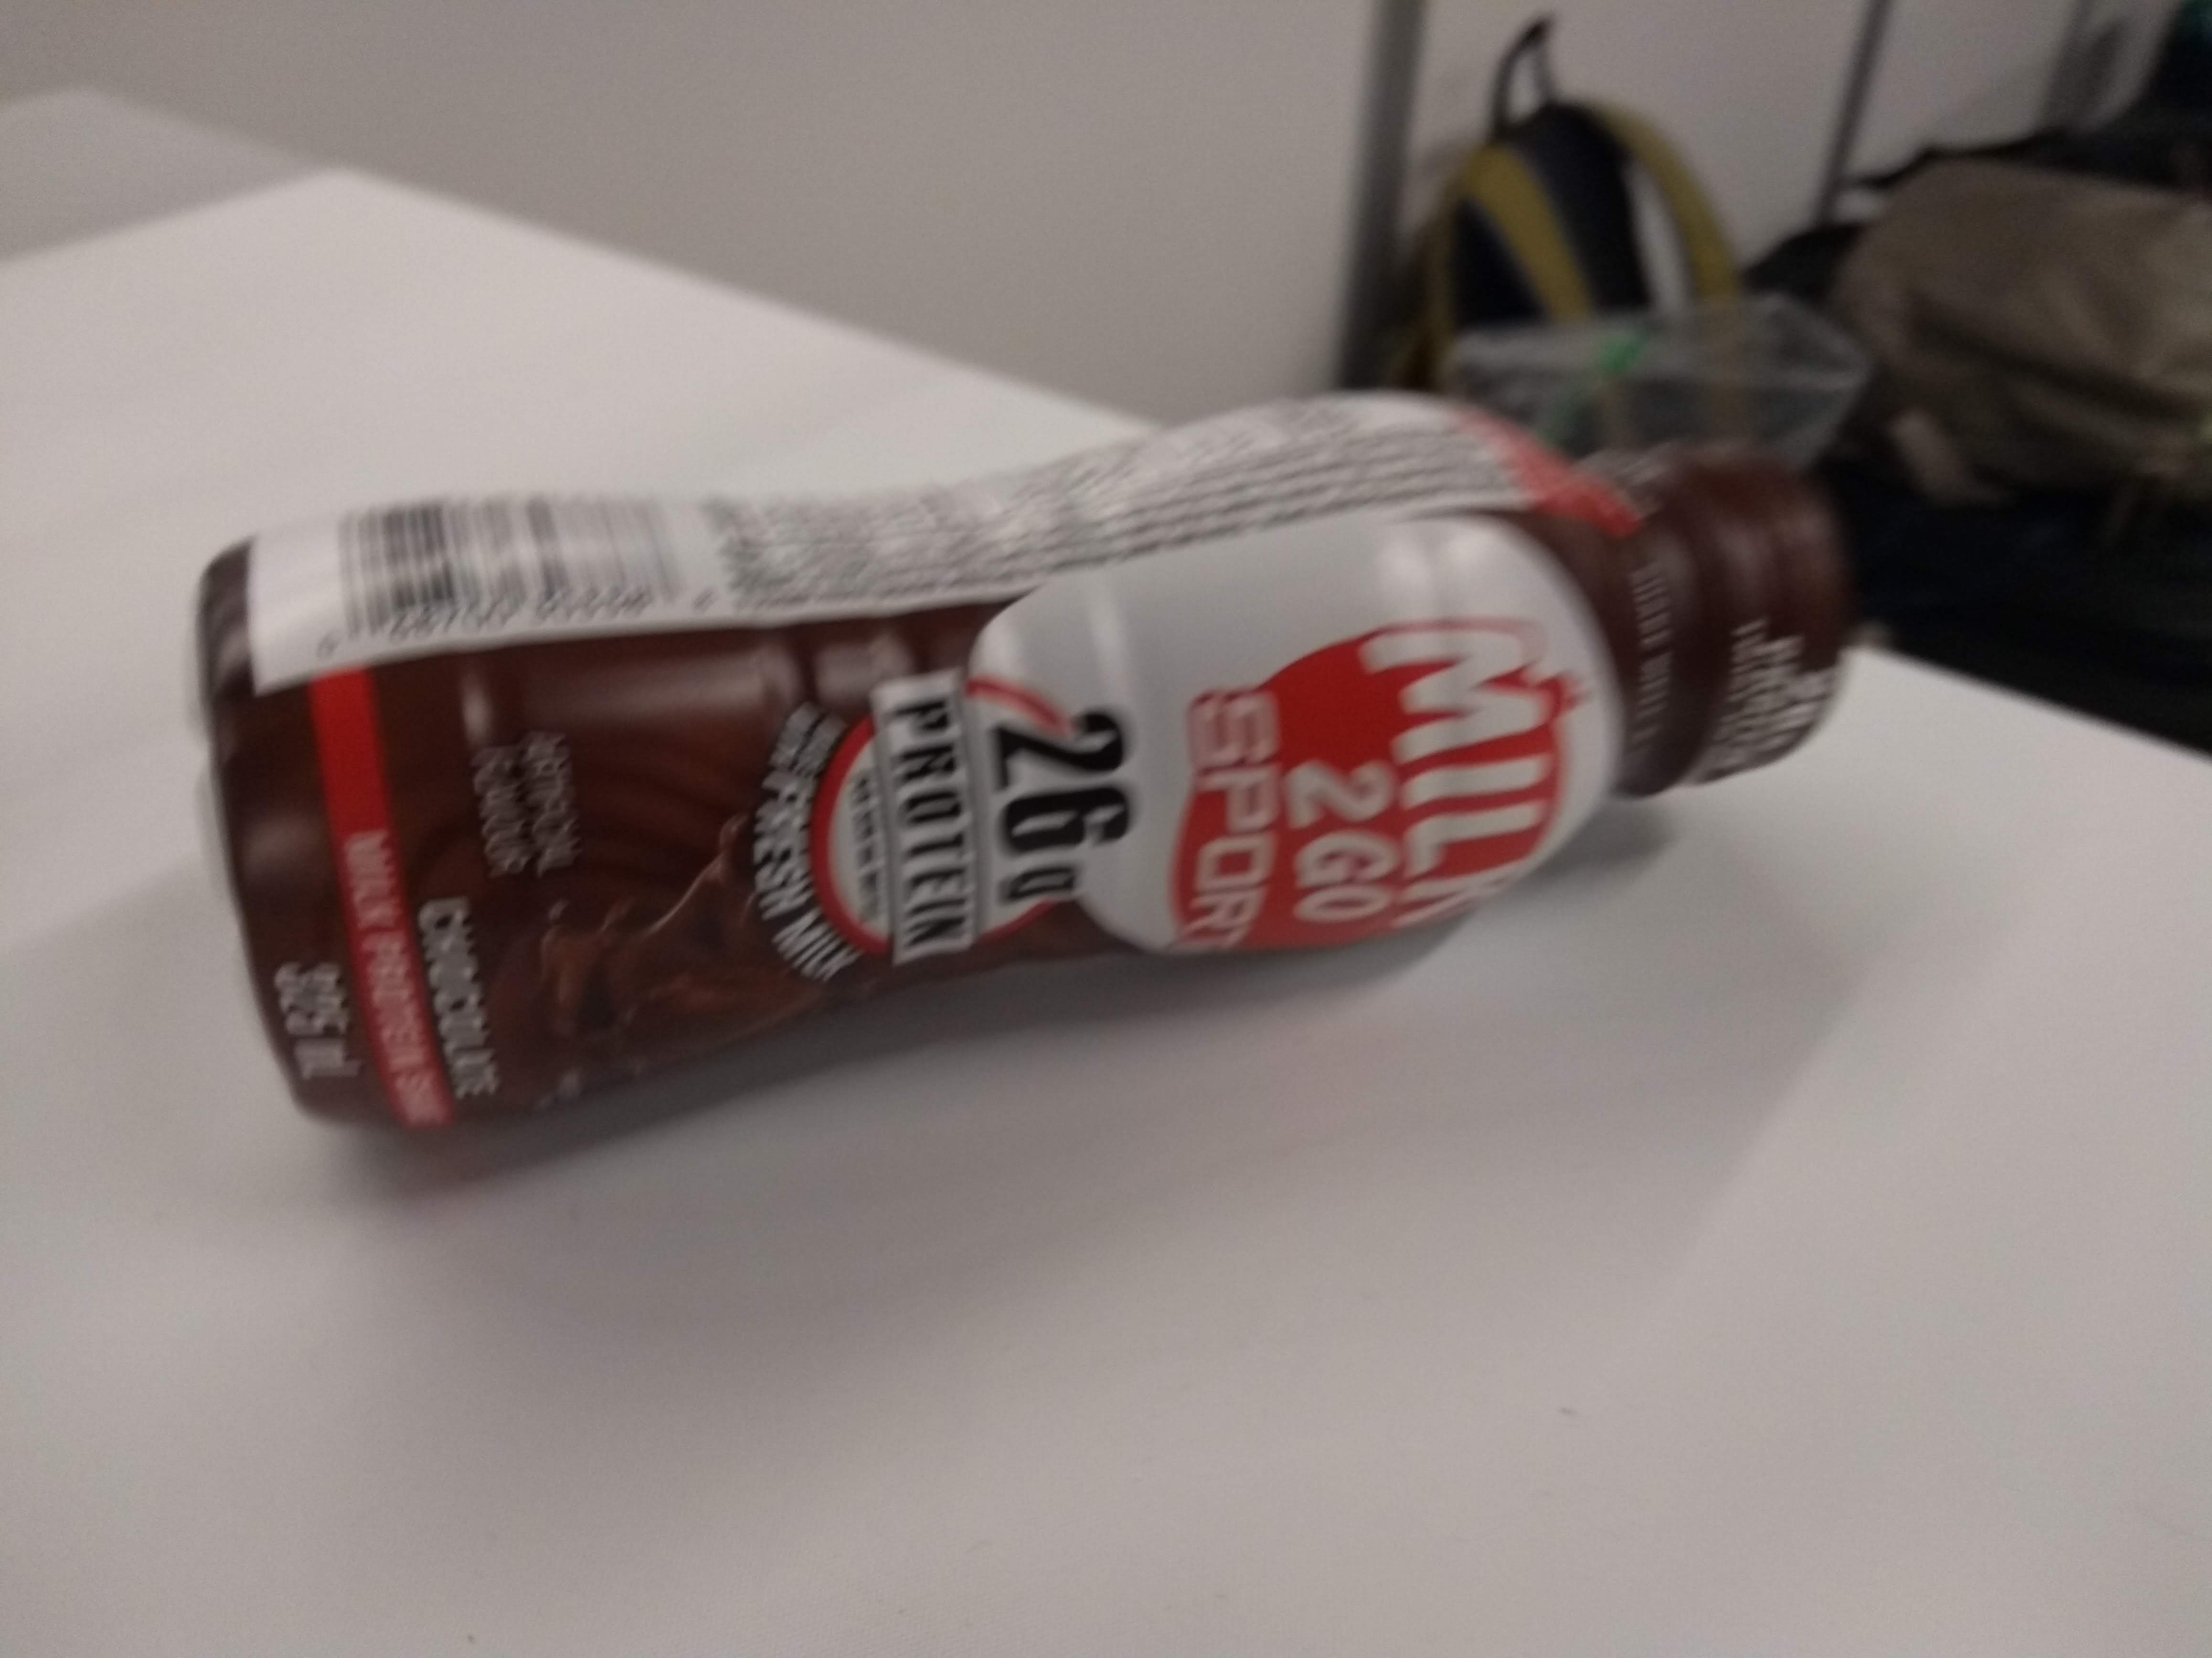chocolate_drink: (179, 390, 1865, 1141)
